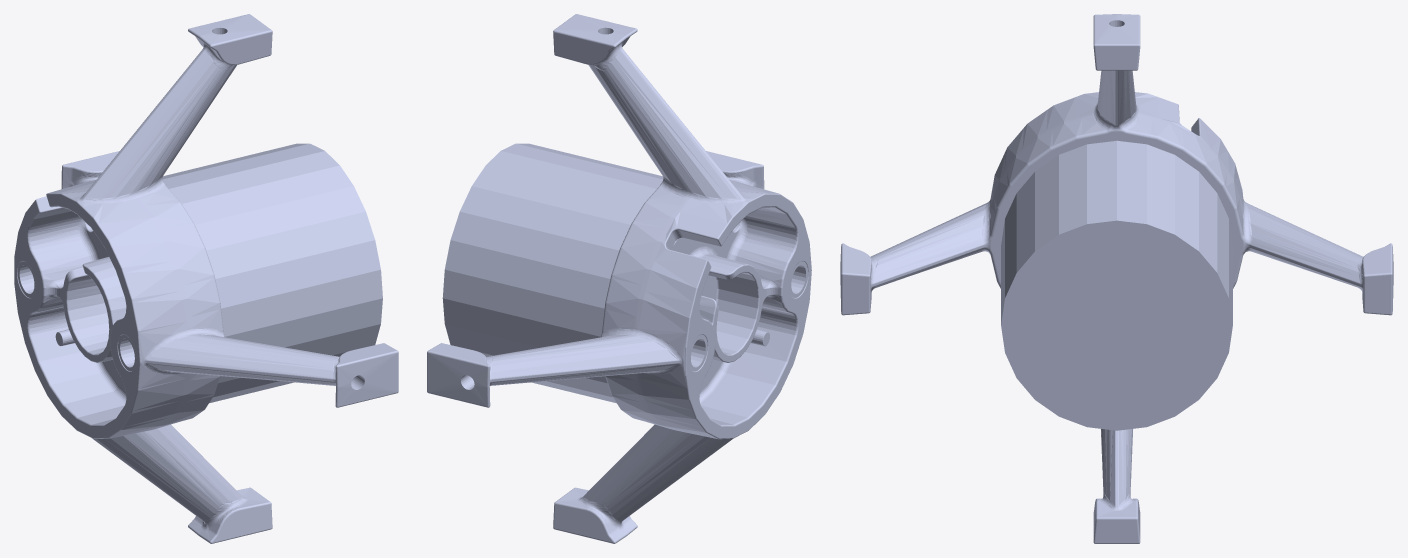
Rendered from T200_07_T200STEP_T200STEPSTEP_T200_CORE_T200_CORE_STDSTEPSTEP_T200_ASM_STATOR_BASE_ORING_Pubilc_STEPSTEP_T200STEP1_T200STEP1.obj.
3 views of the same model, side by side, from view 1: azimuth 30°, elevation 25°; view 2: azimuth 150°, elevation 25°; view 3: azimuth 270°, elevation 25° (orthographic).
Bounding box in the file's own units: 0.0453 × 0.0874 × 0.0874.
